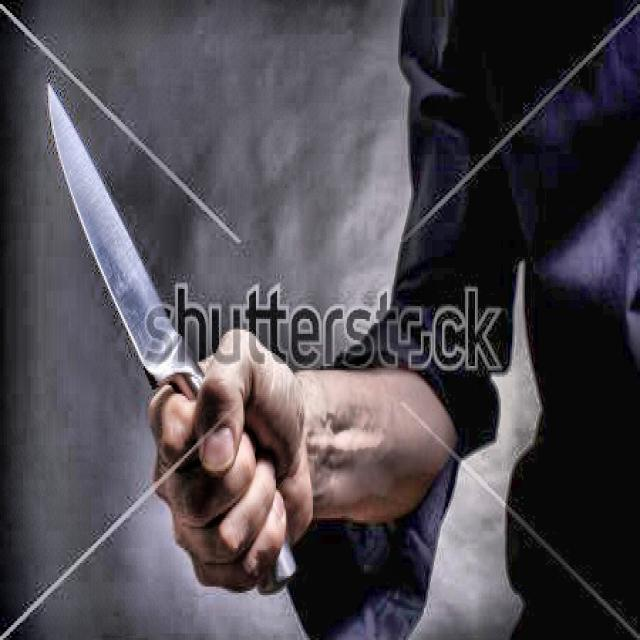knife: (47, 89, 296, 592)
